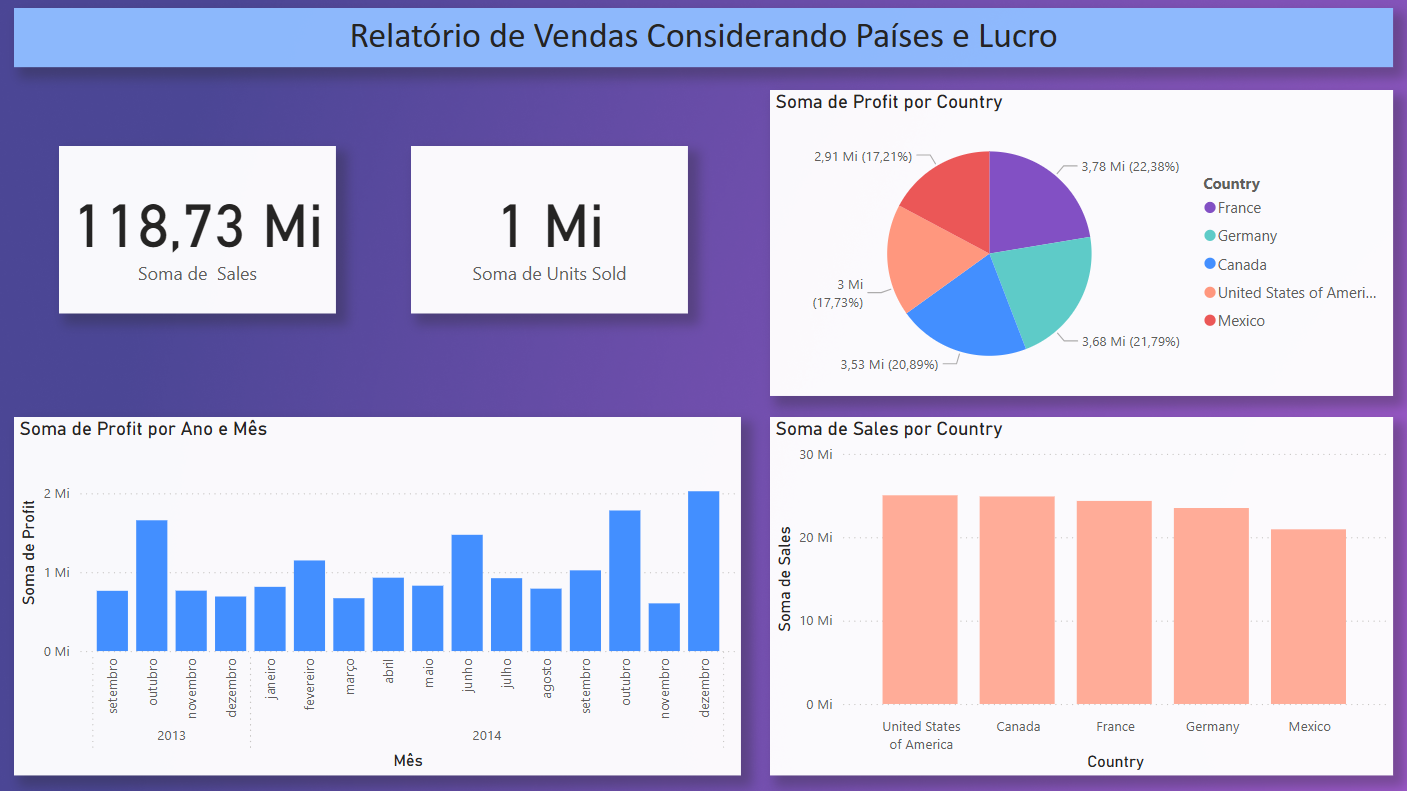

This screenshot's page, from the dashboard's own definition file:
{"tool":"powerbi","page":{"name":"Página 2","canvas":[1280,720],"ordinal":1},"visuals":[{"type":"textbox","box":[20.6,12.5,1234.9,52.8],"z":0},{"type":"card","fields":{"Values":["Sum(financials. Sales)"]},"box":[60.9,136.1,248.1,150.4],"z":1000},{"type":"card","fields":{"Values":["Sum(financials.Units Sold)"]},"box":[376.1,136.1,248.1,150.4],"z":2000},{"type":"pieChart","fields":{"Category":["financials.Country"],"Y":["Sum(financials.Profit)"]},"box":[697.6,86,557.9,274],"z":3000},{"type":"clusteredColumnChart","fields":{"Y":["Sum(financials.Profit)"],"Category":["financials.Date.Variation.Hierarquia de datas.Ano","financials.Date.Variation.Hierarquia de datas.Mês"]},"box":[20.6,378.8,651,320.6],"z":4000},{"type":"clusteredColumnChart","fields":{"Category":["financials.Country"],"Y":["Sum(financials. Sales)"]},"box":[698,379,558,321],"z":5000}]}

Visuals, with their boxes in screenshot pixels (x1, y1, x2, y2), scaled from the page's 1280x720 canvas onto the 1407x791 screenshot:
textbox: l=23, t=14, r=1380, b=72
card - Sum(financials. Sales): l=67, t=150, r=340, b=315
card - Sum(financials.Units Sold): l=413, t=150, r=686, b=315
pieChart - financials.Country x Sum(financials.Profit): l=767, t=94, r=1380, b=396
clusteredColumnChart - Sum(financials.Profit) x financials.Date.Variation.Hierarquia de datas.Ano: l=23, t=416, r=738, b=768
clusteredColumnChart - financials.Country x Sum(financials. Sales): l=767, t=416, r=1381, b=769
